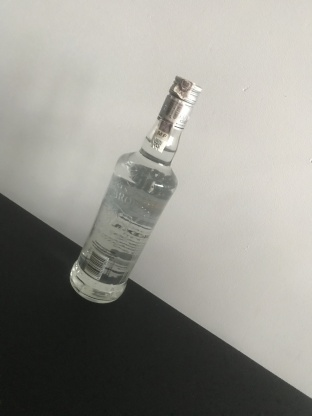nakretka: (156, 74, 203, 131)
